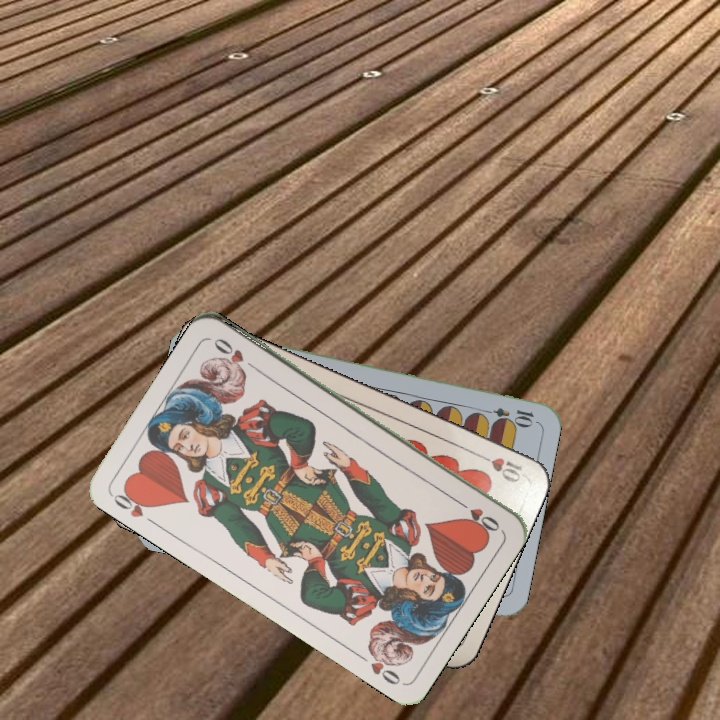E10: (477, 403, 536, 427)
H10: (471, 449, 528, 486)
HO: (107, 482, 160, 528), (451, 495, 502, 534)
